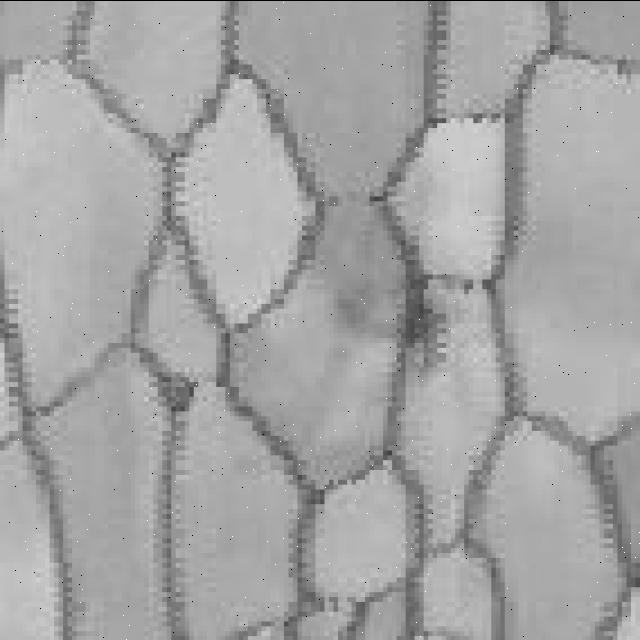good_void: (334, 181, 456, 361)
